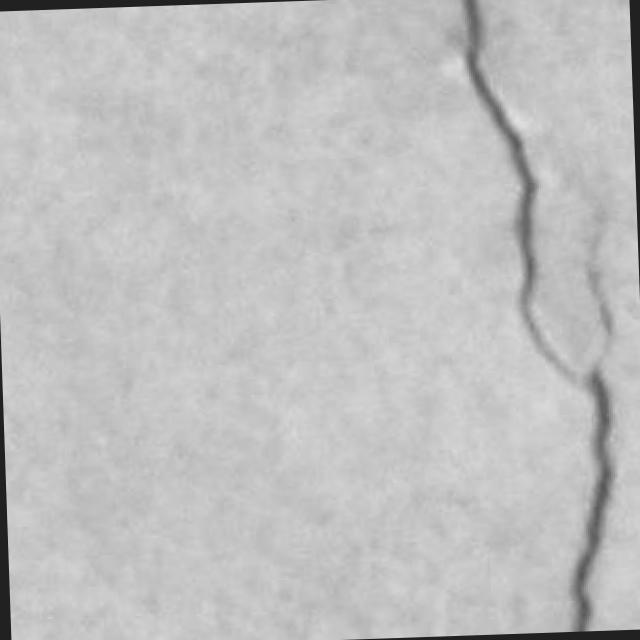crack: (463, 0, 614, 631)
